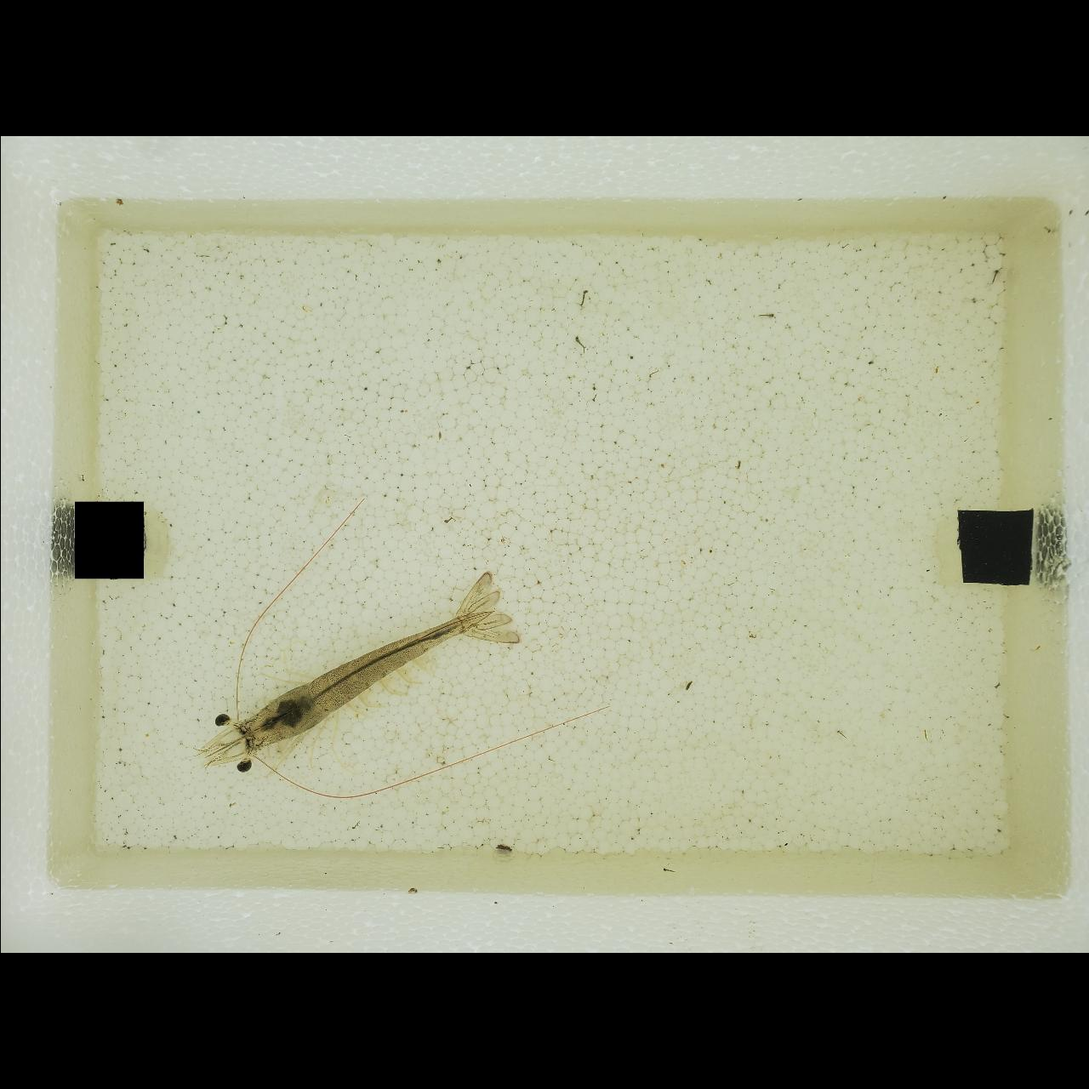box: (957, 509, 1033, 586), (73, 501, 144, 580)
top_shrimp: (236, 611, 493, 753)
